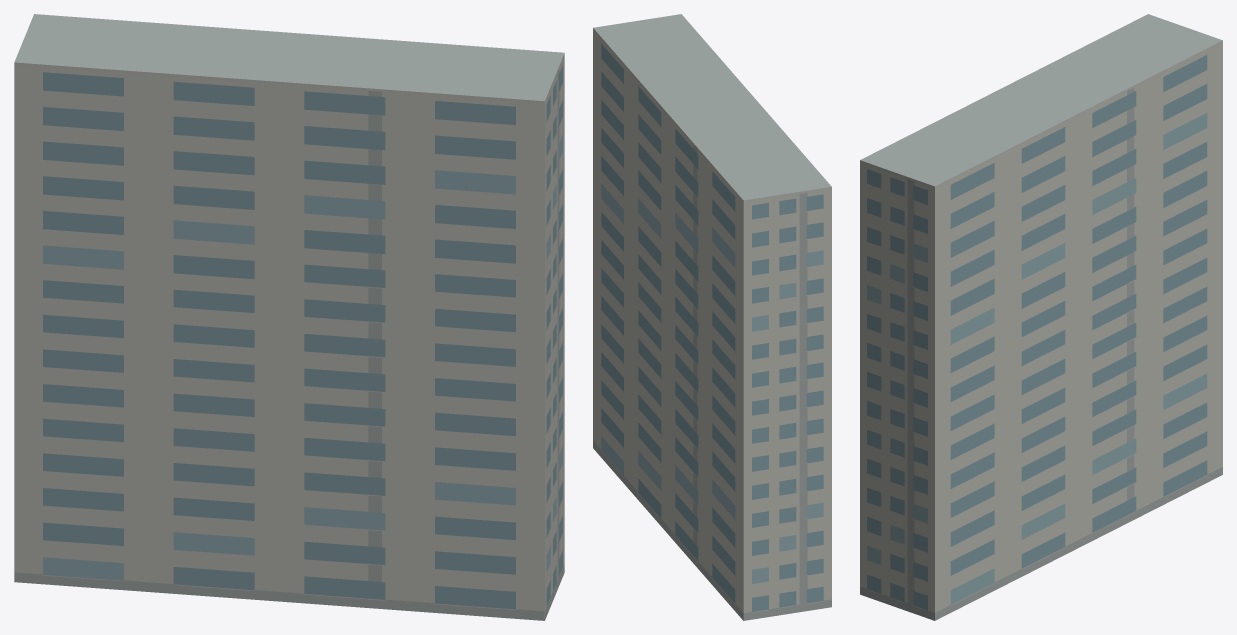
The model's file is residential-0a9d1865-af96-472d-b03b-d9370e078b90.glb.
3 views of the same model, side by side, from view 1: azimuth 30°, elevation 25°; view 2: azimuth 150°, elevation 25°; view 3: azimuth 270°, elevation 25° (orthographic). The views are drawn at different scales.
Visible parts, largest first — view 1: residential-0a9d1865-af96-472d-b03b-d9370e078b90.tmp; view 2: residential-0a9d1865-af96-472d-b03b-d9370e078b90.tmp; view 3: residential-0a9d1865-af96-472d-b03b-d9370e078b90.tmp.
Part boxes in pixels (left/top/right/bottom): residential-0a9d1865-af96-472d-b03b-d9370e078b90.tmp: left=14, top=14, right=564, bottom=620; residential-0a9d1865-af96-472d-b03b-d9370e078b90.tmp: left=593, top=14, right=831, bottom=620; residential-0a9d1865-af96-472d-b03b-d9370e078b90.tmp: left=860, top=14, right=1222, bottom=620.
Bounding box in the file's own units: 42.58 × 50 × 37.86.
